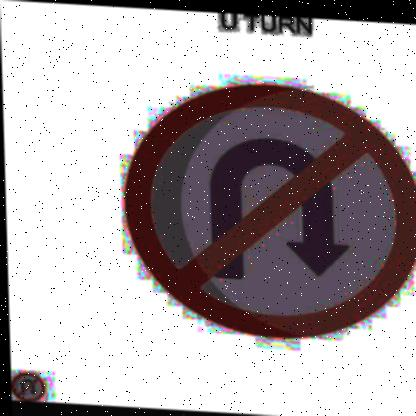No U-turn: (114, 68, 416, 343)
